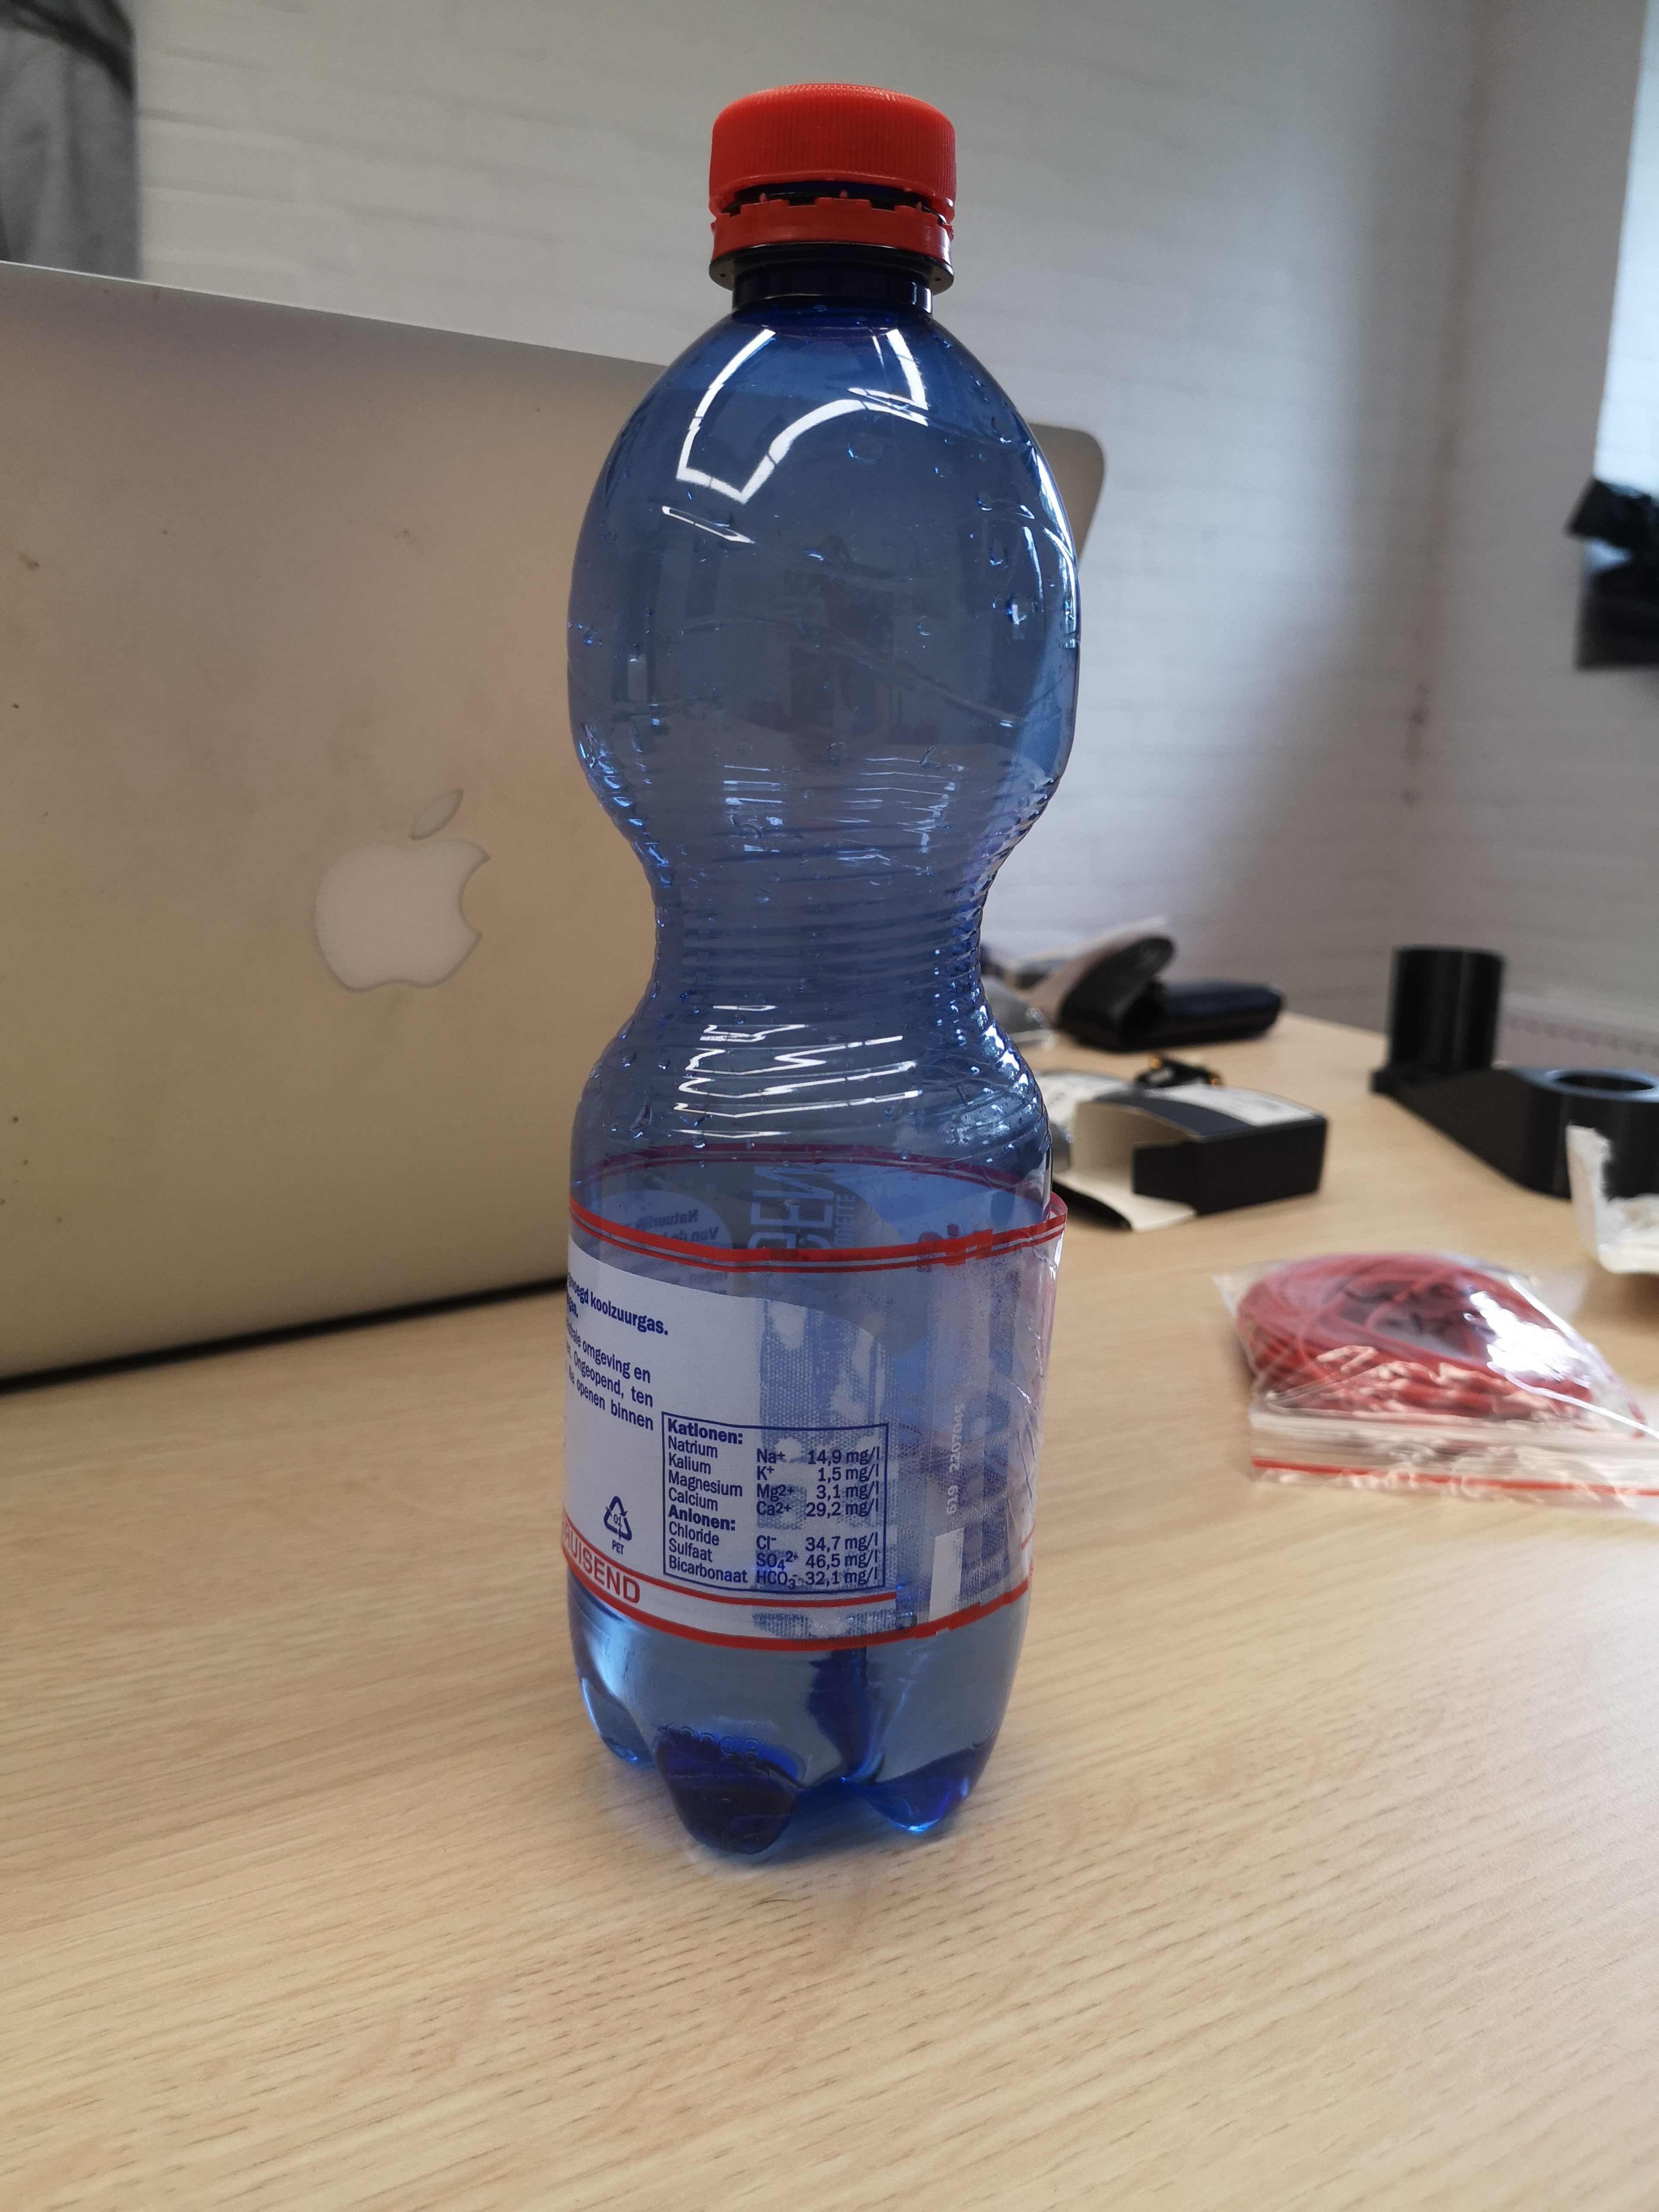plastic_bottle: (538, 52, 1091, 1900)
